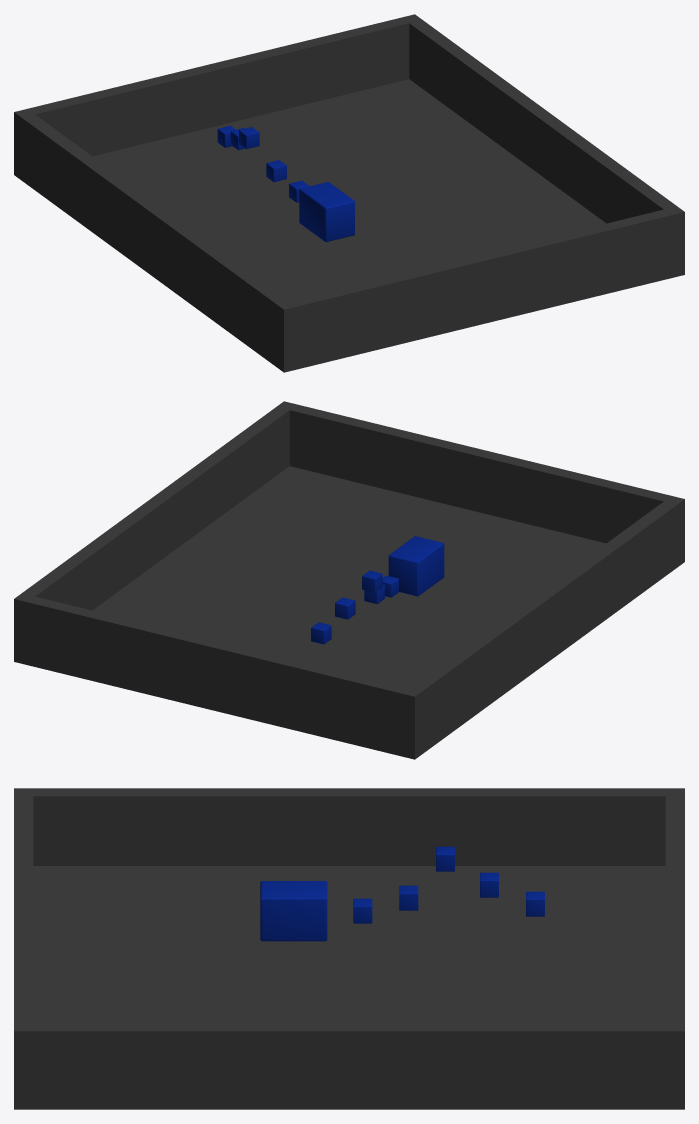
File: HW4_Chapman.fbx
3 renders of one model, top to bottom at view 1: azimuth 30°, elevation 25°; view 2: azimuth 150°, elevation 25°; view 3: azimuth 270°, elevation 25°, orthographic. The views are drawn at different scales.
Visible parts, largest first — view 1: SM_Cube, SM_Cube3, SM_Cube2, SM_Cube5, SM_Cube6, SM_ChamferCube6; view 2: SM_Cube, SM_Cube2, SM_Cube3, SM_Cube5, SM_Cube6, SM_ChamferCube6; view 3: SM_Cube, SM_Cube6, SM_Cube5, SM_Cube2, SM_Cube3, SM_ChamferCube6, SM_ChamferCube4, SM_ChamferCube5, SM_ChamferCube, SM_ChamferCube2, SM_ChamferCube3.
Part boxes in pixels (x1,y1,x2,y2): SM_Cube: (14,79,684,372); SM_Cube3: (276,206,684,365); SM_Cube2: (14,14,422,173); SM_Cube5: (21,114,289,359); SM_Cube6: (409,20,676,223); SM_ChamferCube6: (299,182,354,242); SM_Cube: (14,466,684,759); SM_Cube2: (14,593,422,752); SM_Cube3: (276,401,684,560); SM_Cube5: (409,501,677,746); SM_Cube6: (22,407,289,610); SM_ChamferCube6: (388,536,444,596); SM_Cube: (14,866,684,1109); SM_Cube6: (33,1023,665,1100); SM_Cube5: (33,788,665,865); SM_Cube2: (665,788,684,1100); SM_Cube3: (14,788,33,1100); SM_ChamferCube6: (260,881,327,941); SM_ChamferCube4: (399,885,418,910); SM_ChamferCube5: (353,898,372,923); SM_ChamferCube: (526,891,544,916); SM_ChamferCube2: (480,872,498,897); SM_ChamferCube3: (436,846,454,871).
Size of what is drawn, in the model's own units: 3000 by 3500 by 576.
